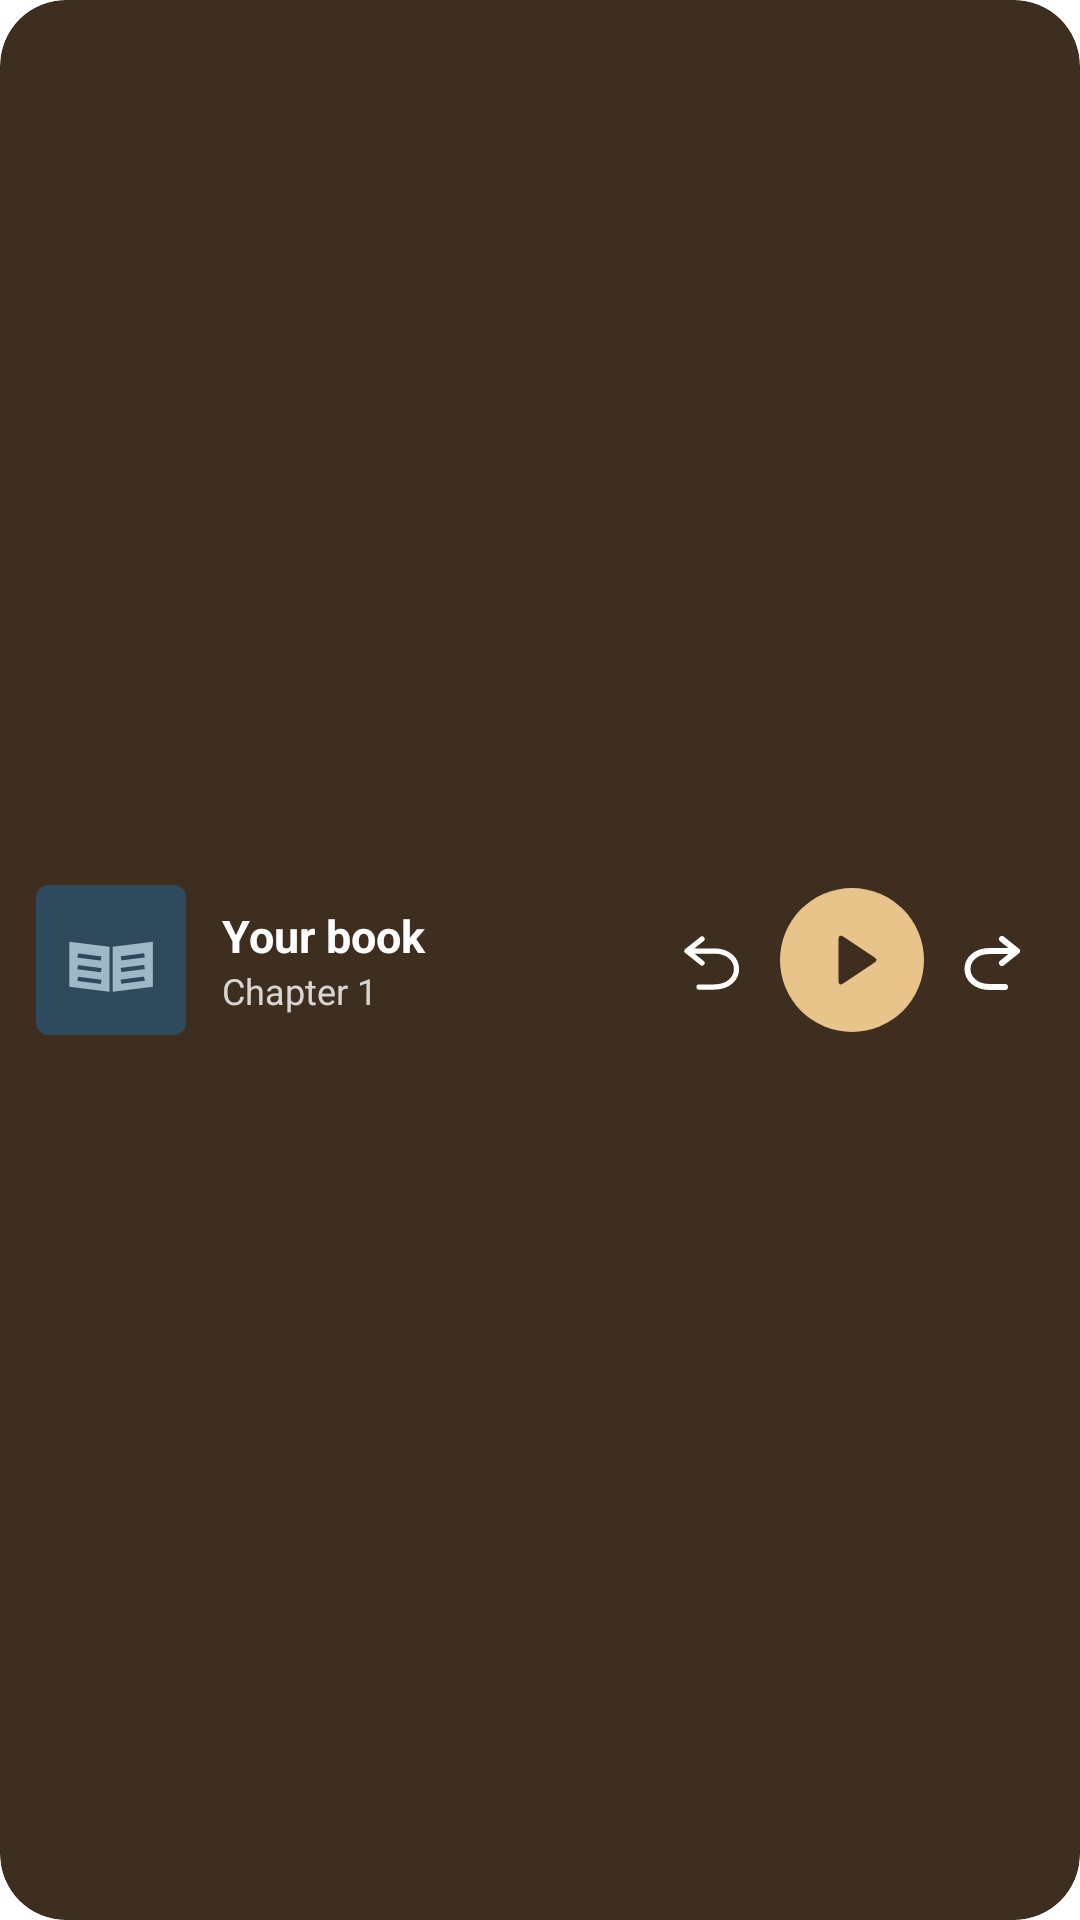

Where to tap for icons on this 1080w x 1920h app screen, as point (x, y):
Forward: point (992, 963)
Rewind: point (711, 963)
